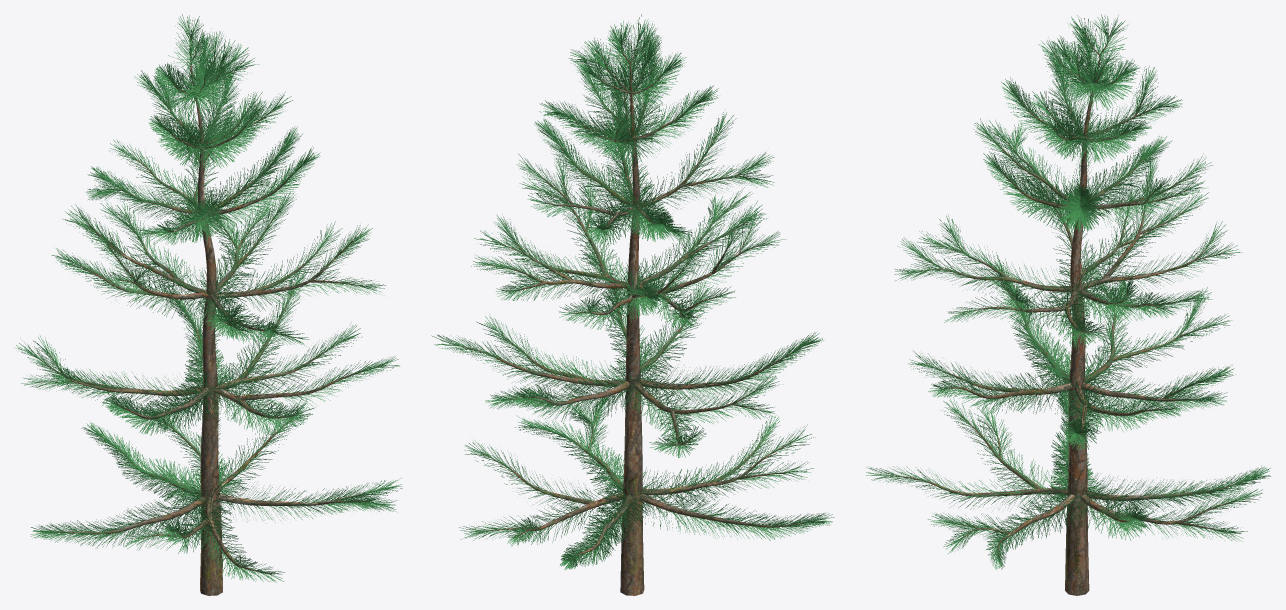
File: tree_pine.glb
3 views of the same model, side by side, from view 1: azimuth 30°, elevation 25°; view 2: azimuth 150°, elevation 25°; view 3: azimuth 270°, elevation 25° (orthographic). The views are drawn at different scales.
Visible parts, largest first — view 1: tree; view 2: tree; view 3: tree.
Boxes of the visible parts, box(x1,y1,x2,y2) form: tree: box(14, 14, 402, 595); tree: box(431, 14, 834, 595); tree: box(866, 14, 1270, 595).
Bounding box in the file's own units: 4.82 × 7.68 × 4.96.
2 materials, 1 textured.
